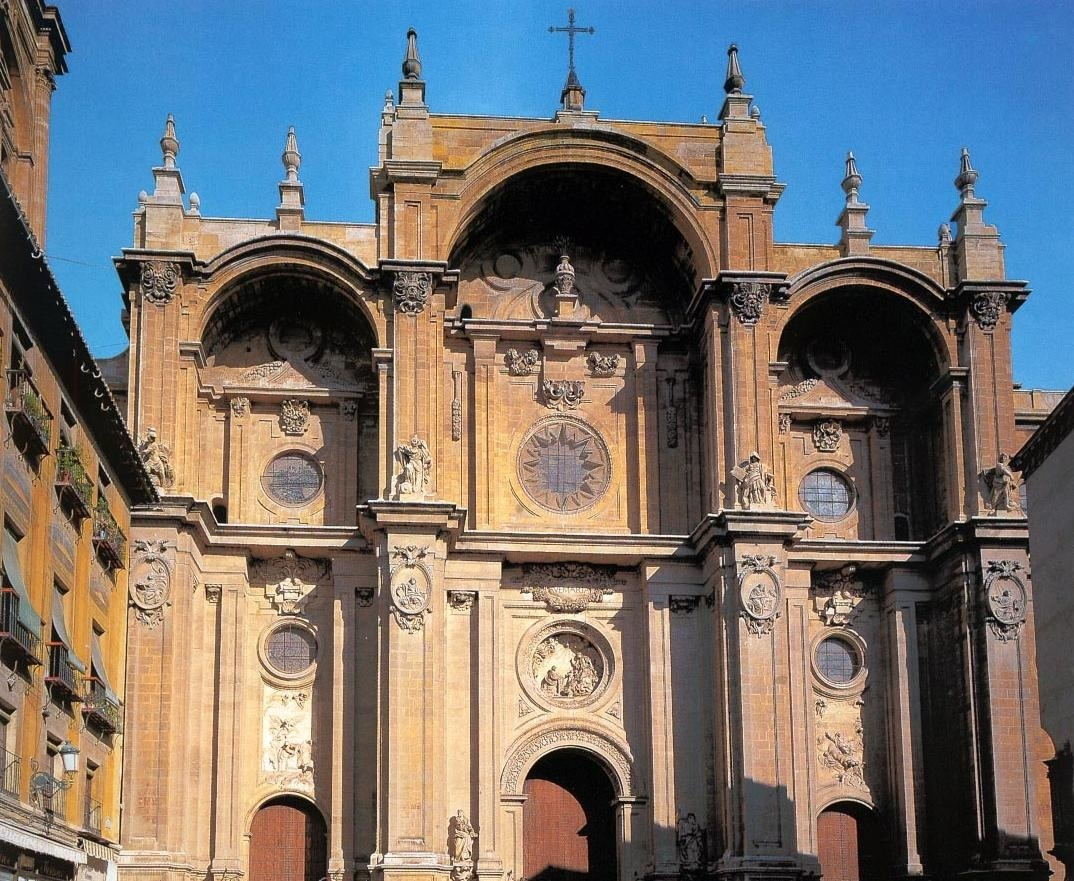arco-medio-punto: (430, 158, 718, 298), (183, 255, 387, 376), (769, 272, 958, 386), (510, 734, 631, 818), (240, 788, 333, 849)
ojo-de-buey: (253, 613, 324, 683), (258, 443, 328, 513), (794, 459, 859, 524), (809, 627, 866, 689)
